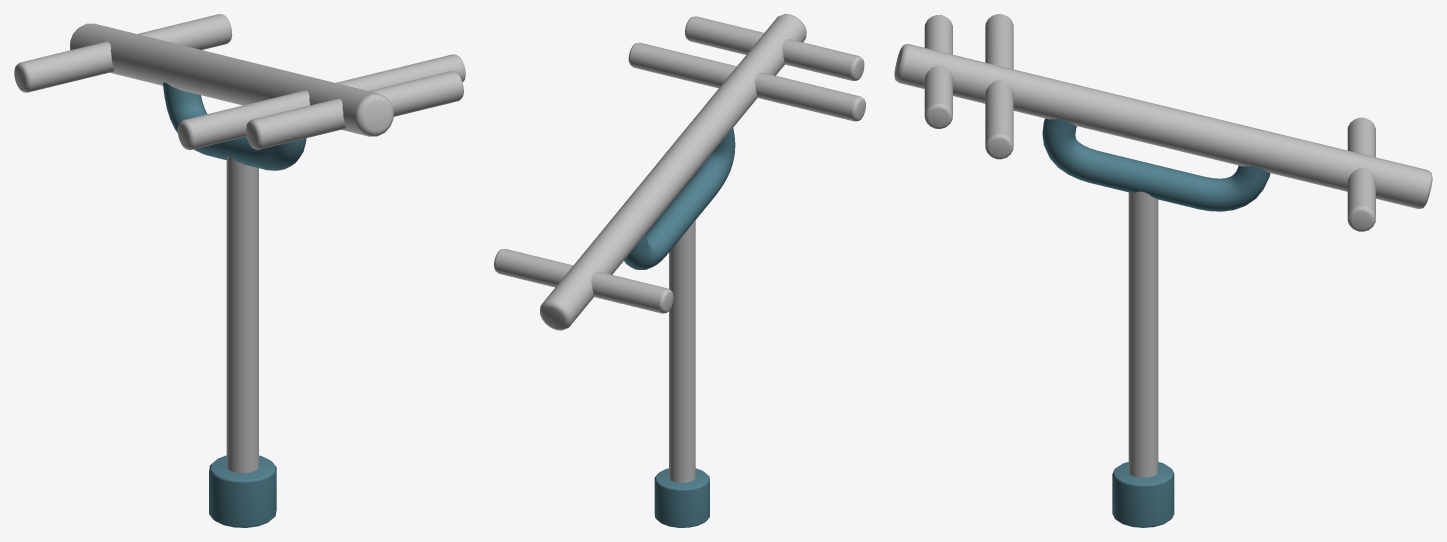
Rendered from City_13_Antenna_1.glb.
3 renders of one model, left to right at view 1: azimuth 30°, elevation 25°; view 2: azimuth 150°, elevation 25°; view 3: azimuth 270°, elevation 25°, orthographic. The views are drawn at different scales.
Visible parts, largest first — view 1: City_13_Antenna_1; view 2: City_13_Antenna_1; view 3: City_13_Antenna_1.
Part boxes in pixels (left/top/right/bottom): City_13_Antenna_1: left=14, top=14, right=465, bottom=527; City_13_Antenna_1: left=494, top=14, right=865, bottom=527; City_13_Antenna_1: left=894, top=14, right=1432, bottom=527.
Size of the model in its own units: 1.33 by 2.37 by 2.46.
1 material, 1 textured.
